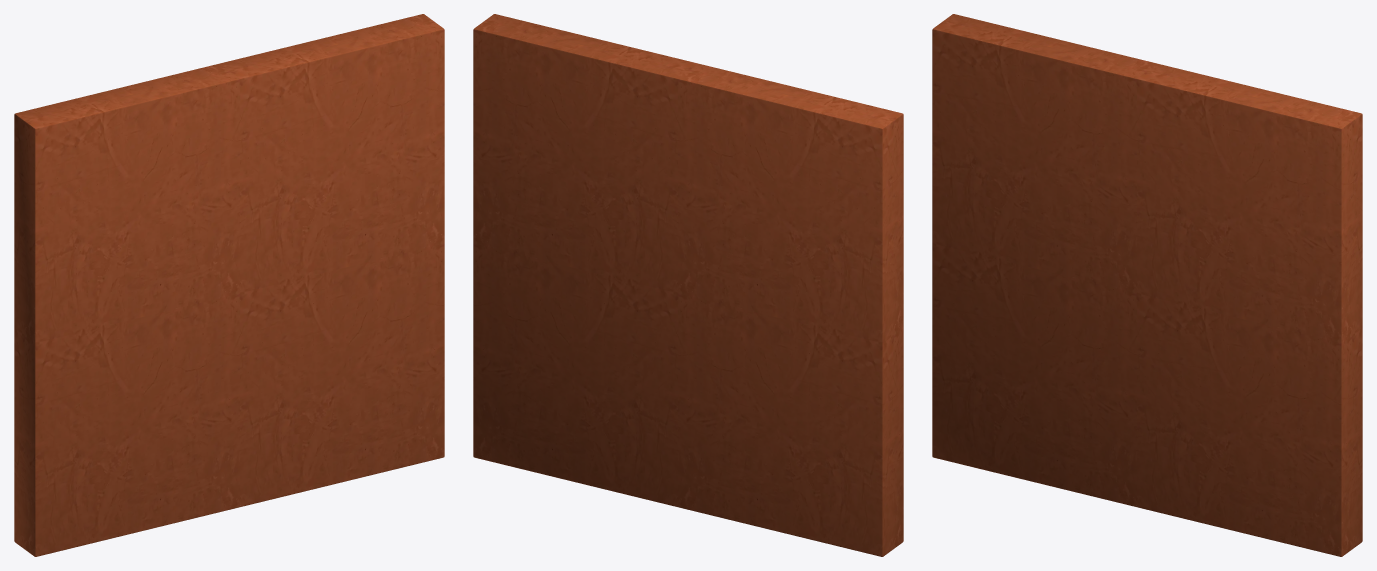
Rendered from REV-GES-003_anim.glb.
3 views of the same model, side by side, from view 1: azimuth 30°, elevation 25°; view 2: azimuth 150°, elevation 25°; view 3: azimuth 330°, elevation 25° (orthographic).
Parts seen in each view (by area): view 1: REV-GES-003_anim0; view 2: REV-GES-003_anim0; view 3: REV-GES-003_anim0.
Boxes of the visible parts, x1=… form: REV-GES-003_anim0: x1=14, y1=14, x2=444, y2=556; REV-GES-003_anim0: x1=473, y1=14, x2=903, y2=556; REV-GES-003_anim0: x1=932, y1=14, x2=1362, y2=556.
Size of the model in its own units: 1 by 1 by 0.092.
2 materials, 2 textured.
